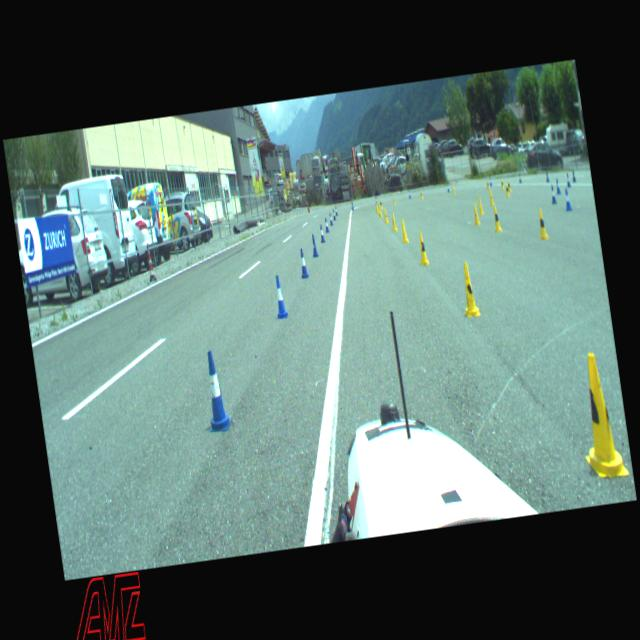blue_cone: (200, 349, 232, 432), (271, 275, 289, 319), (298, 248, 309, 278), (310, 233, 318, 257), (564, 190, 572, 212), (318, 225, 326, 242), (550, 185, 557, 204), (555, 179, 561, 194), (328, 213, 334, 226), (324, 218, 329, 232), (566, 174, 571, 186), (571, 170, 576, 182), (332, 209, 337, 220), (545, 170, 549, 182), (334, 206, 338, 216), (408, 190, 412, 199), (518, 174, 522, 182), (489, 177, 492, 186), (351, 202, 354, 210), (447, 184, 450, 192)
yellow_cone: (572, 351, 630, 480), (458, 262, 481, 318), (416, 232, 430, 265), (536, 208, 549, 240), (492, 207, 502, 232), (399, 220, 409, 242), (472, 202, 481, 225), (390, 212, 398, 232), (476, 196, 484, 216), (488, 190, 495, 206), (382, 208, 388, 223), (378, 198, 384, 210), (378, 205, 383, 218), (505, 184, 510, 196), (392, 195, 397, 205), (507, 181, 511, 192), (500, 179, 504, 190), (486, 179, 490, 190), (421, 190, 424, 198), (376, 203, 378, 213), (452, 184, 454, 193)
